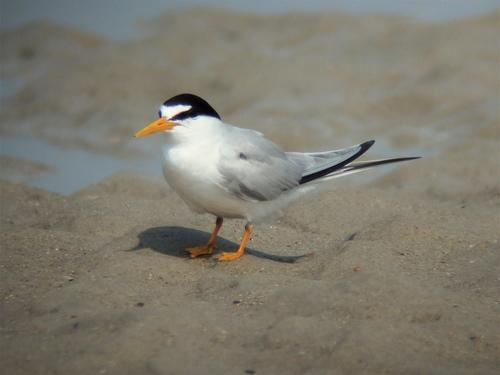bird: (134, 94, 419, 262)
